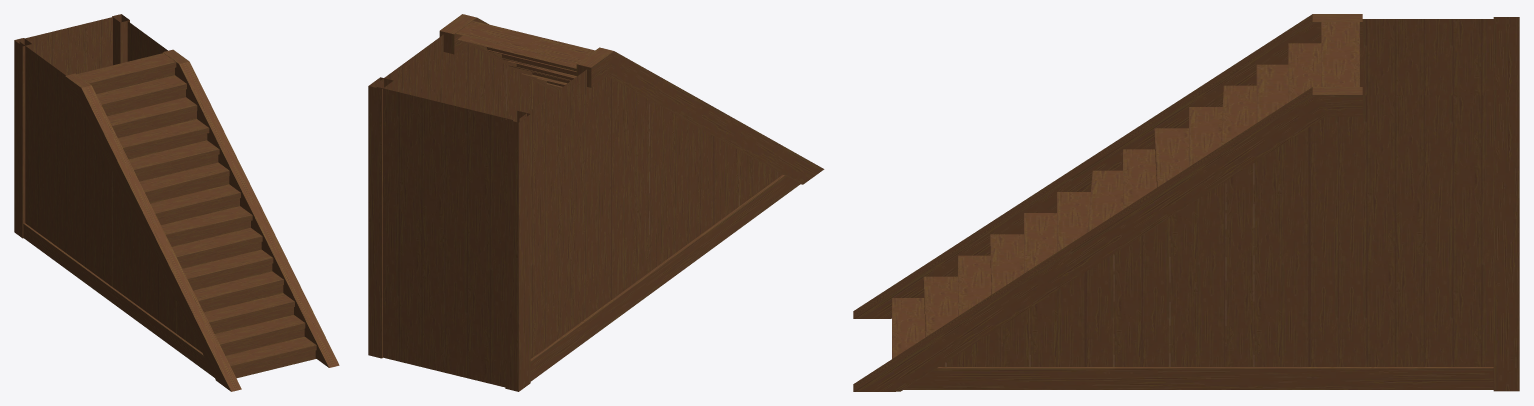
The model's file is stair_interior_solidextended.glb.
The picture shows the model from 3 angles, left to right: view 1: azimuth 30°, elevation 25°; view 2: azimuth 150°, elevation 25°; view 3: azimuth 270°, elevation 25°; orthographic projection. The views are drawn at different scales.
Size of the model in its own units: 1.77 by 3.05 by 6.16.
Materials: 1 (1 with a texture image).
